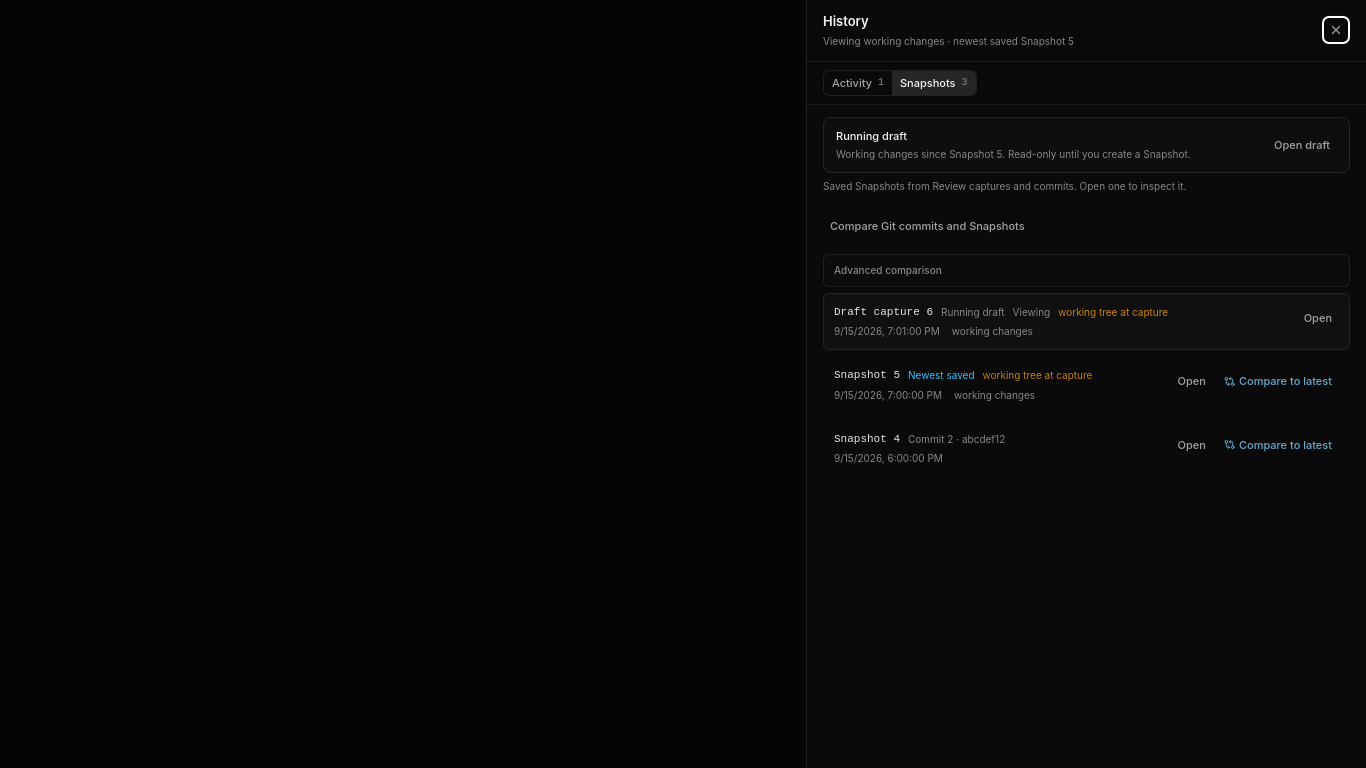
ReviewHistorySheet › keeps ordinary draft captures, published captures, and commit checkpoints selectable in Snapshot history
Check: the radio button labelled "Snapshots 3" is shown, box [892,70,976,95]
Check: the text "Commit 2 · abcdef12" is shown, box [908,432,1005,446]
What coordinates should you click on to do the following:
click the radio button labelled "Activity 1"
I would click on:
 (858, 83)
Its box is [824,70,892,95].
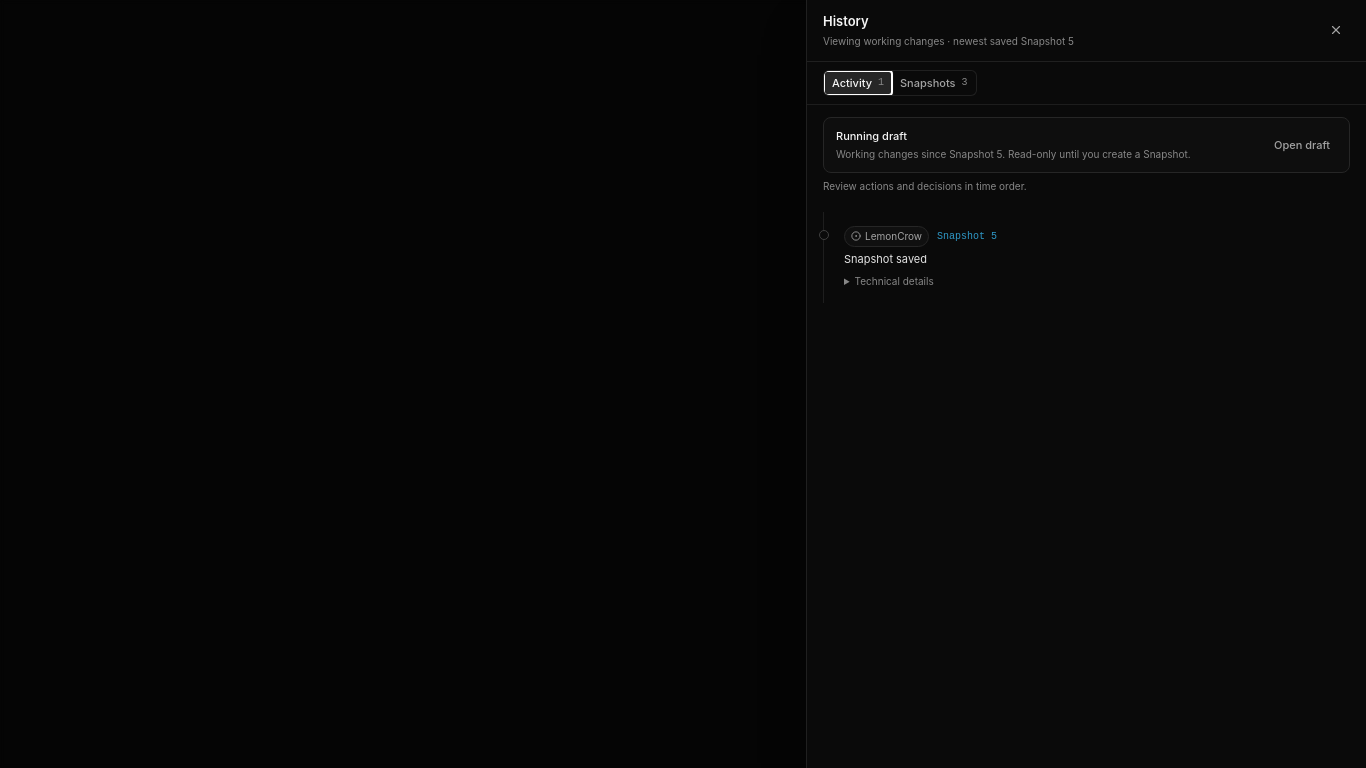
Check: the text "Snapshot saved" is shown, box [844,252,927,266]
